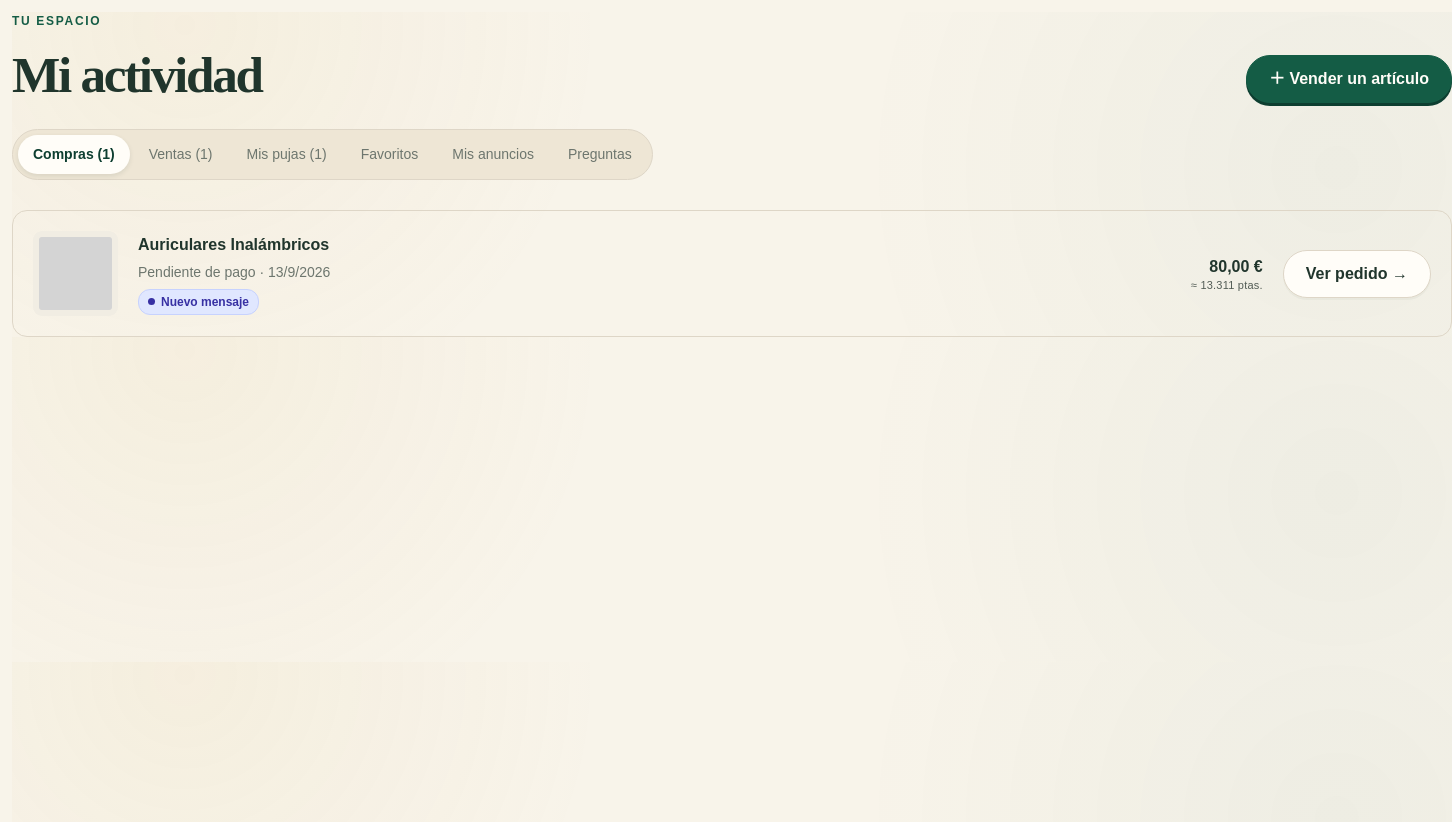
Test: Activity Badges and Notifications (LP-FEAT-009) › renders unread counts on tabs and badges on rows with notifications
This screenshot has width=1452, height=822.
Expected: the button "Compras (1)" is shown, [18,135,130,174]
Expected: the button "Mis pujas (1)" is shown, [232,135,342,174]
# Switch to Ventas tab
Click the button "Ventas (1)" at (181, 155), box [134,135,228,174]
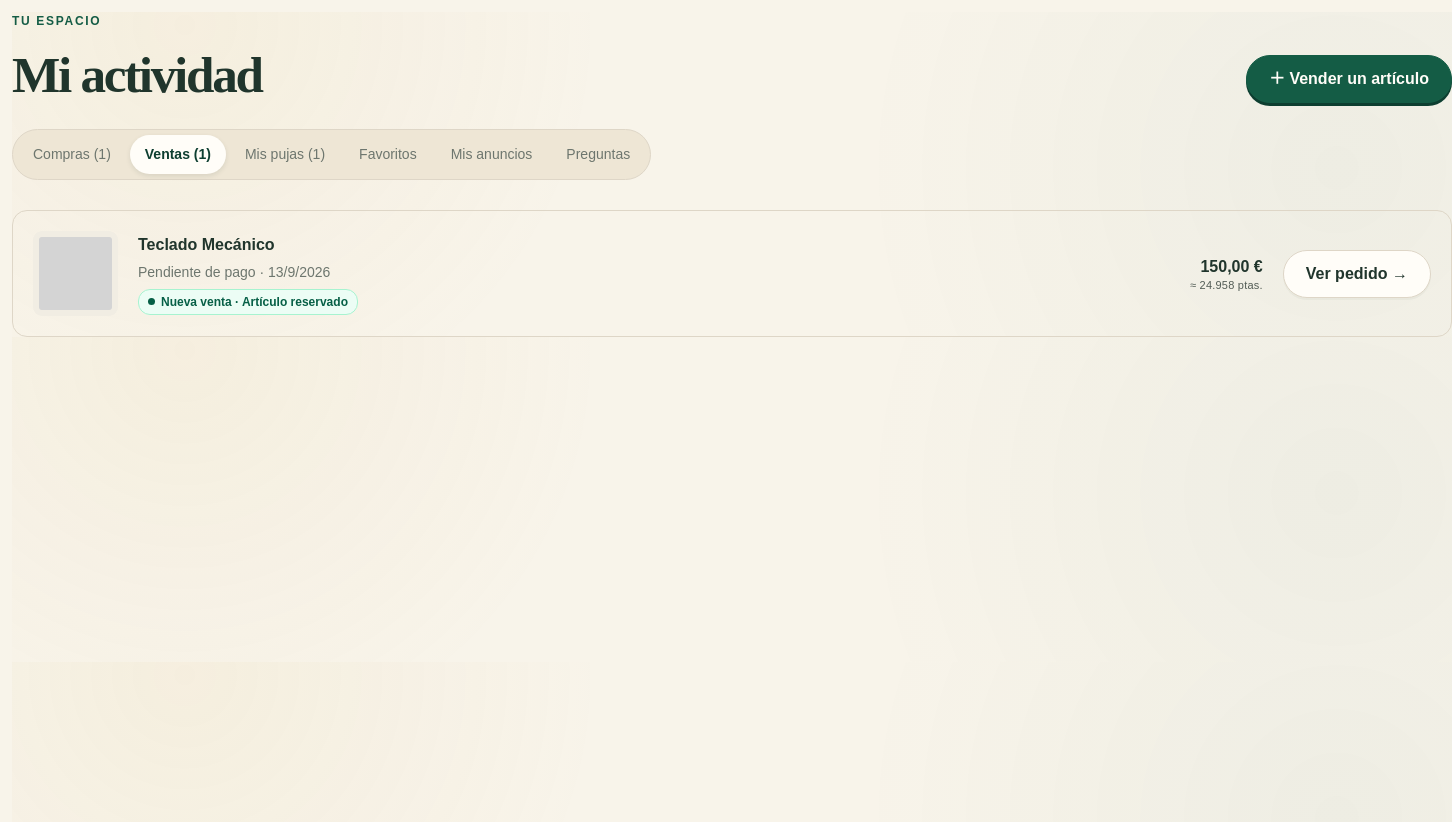
Expected: the link "Teclado Mecánico" is shown, [138,236,275,253]
Expected: the text "Nueva venta · Artículo reservado" is shown, [138,289,358,315]
# Switch to Mis pujas tab
Click the button "Mis pujas (1)" at (285, 155), box [230,135,340,174]
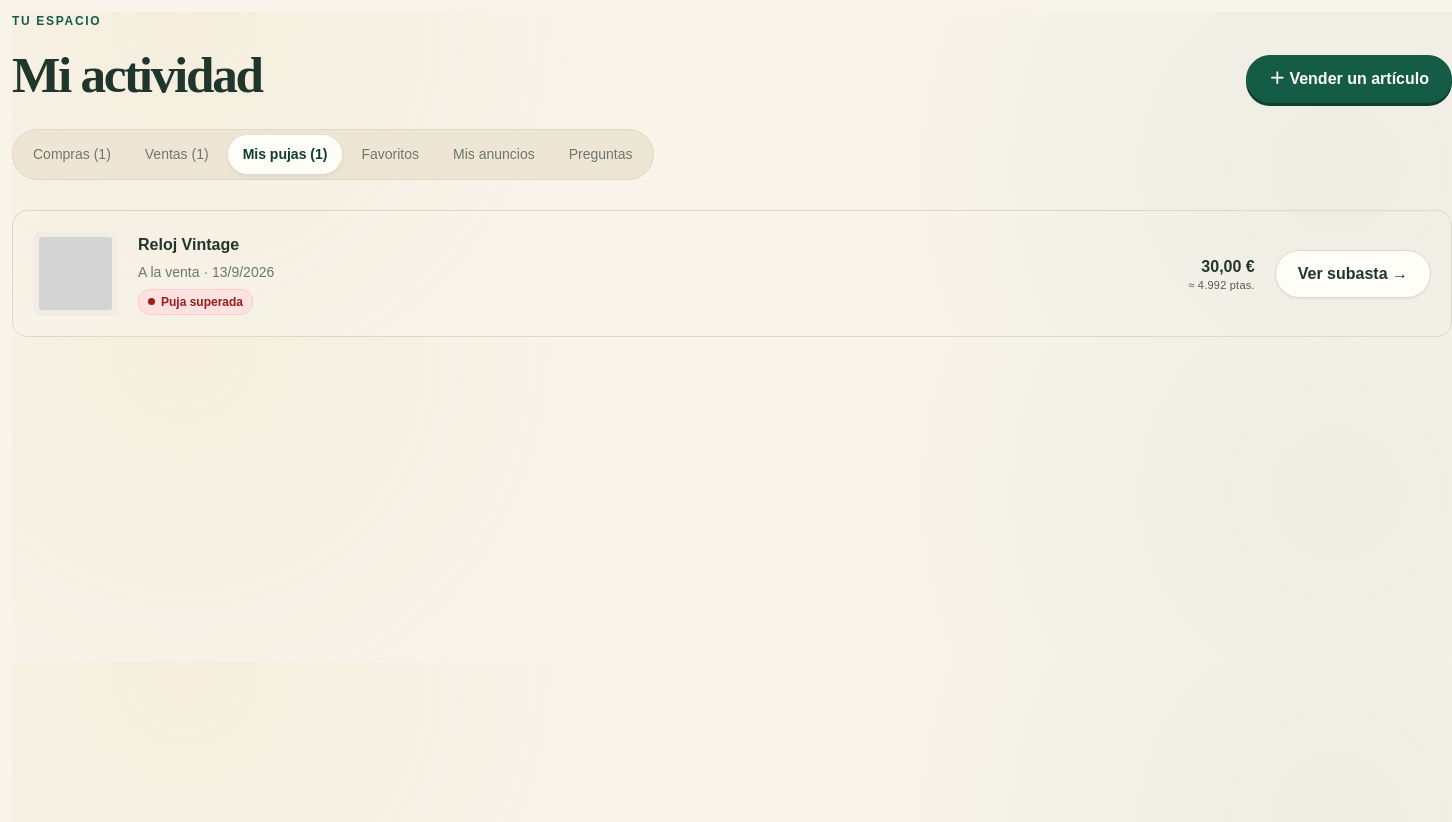
Expected: the link "Reloj Vintage" is shown, [138,236,239,253]
Expected: the text "Puja superada" is shown, [138,289,253,315]
Click the button "Mis anuncios" at (494, 155), box [438,135,550,174]
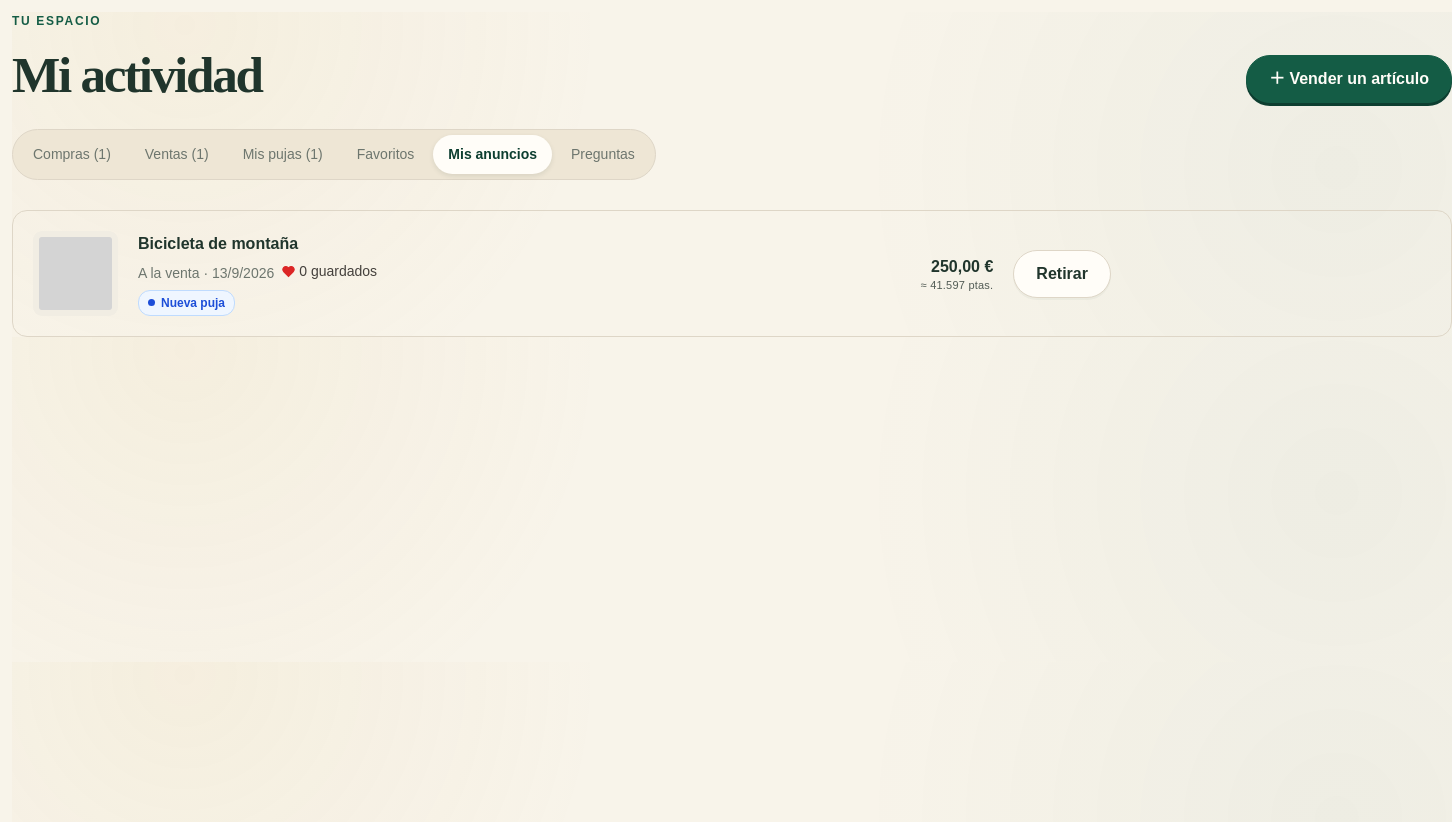
Expected: the link "Bicicleta de montaña" is shown, [138,235,298,252]
Expected: the text "Nueva puja" is shown, [138,290,235,316]
